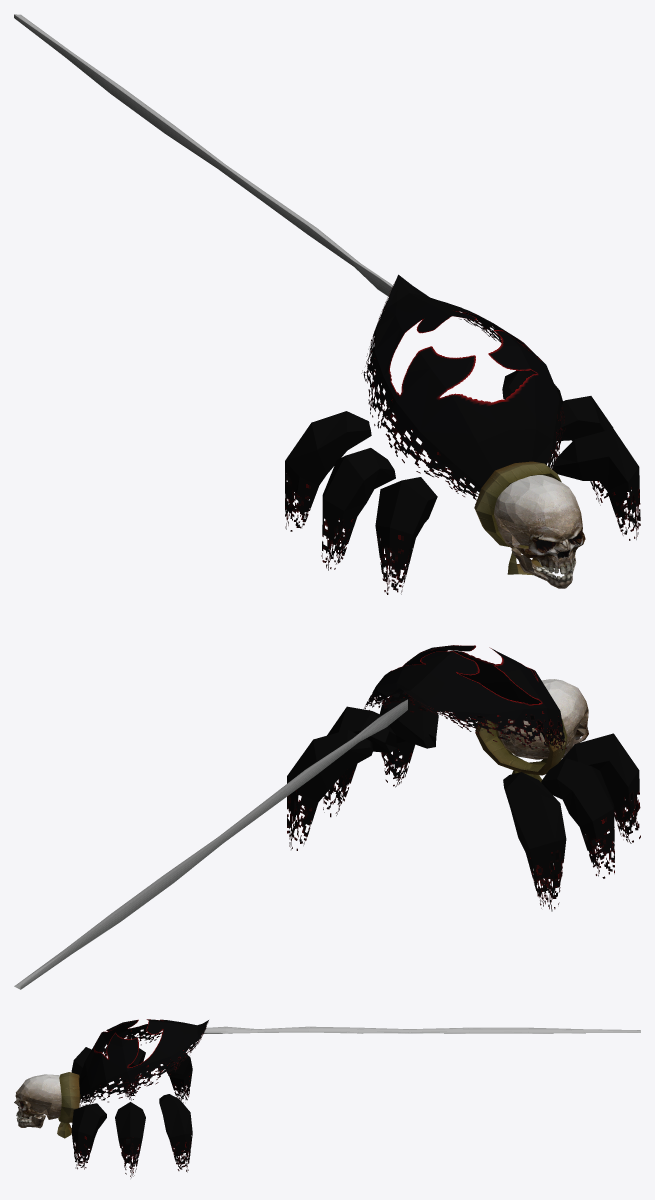
File: mother-spider-lod0.glb
The picture shows the model from 3 angles, top to bottom: view 1: azimuth 30°, elevation 25°; view 2: azimuth 150°, elevation 25°; view 3: azimuth 270°, elevation 25°; orthographic projection. The views are drawn at different scales.
Visible parts, largest first — view 1: mother-spider-lod0, Skull:0.001; view 2: mother-spider-lod0, Skull:0.001; view 3: mother-spider-lod0, Skull:0.001.
Boxes of the visible parts, x1,y1,x2,y2 form: mother-spider-lod0: [14, 14, 640, 594]; Skull:0.001: [494, 475, 585, 588]; mother-spider-lod0: [14, 645, 640, 989]; Skull:0.001: [496, 679, 588, 759]; mother-spider-lod0: [57, 1019, 640, 1177]; Skull:0.001: [14, 1074, 61, 1128].
Bounding box in the file's own units: 4.35 × 3.21 × 14.26.
Materials: 8 (8 with a texture image).
